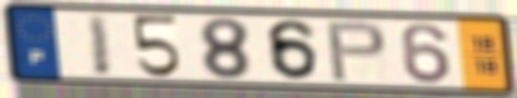5: (129, 13, 181, 79)
6: (263, 18, 320, 82), (397, 21, 453, 86)
8: (195, 15, 252, 81)
I: (83, 11, 115, 78)
P: (323, 20, 390, 84)
